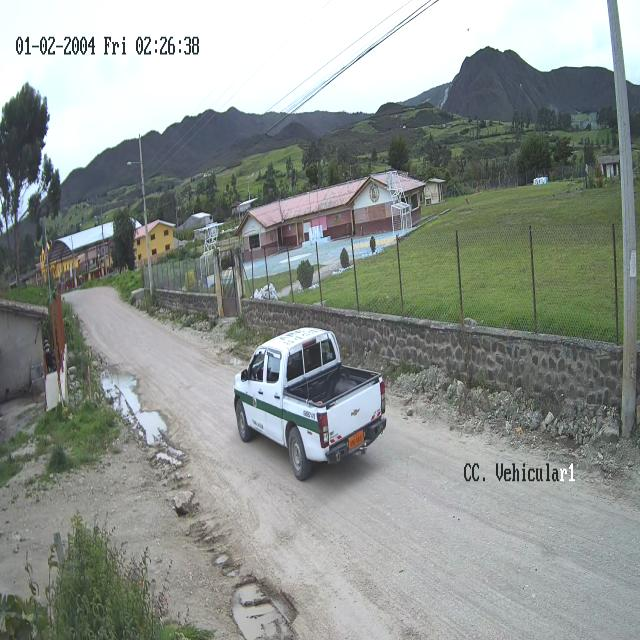CMT: (232, 328, 384, 479)
